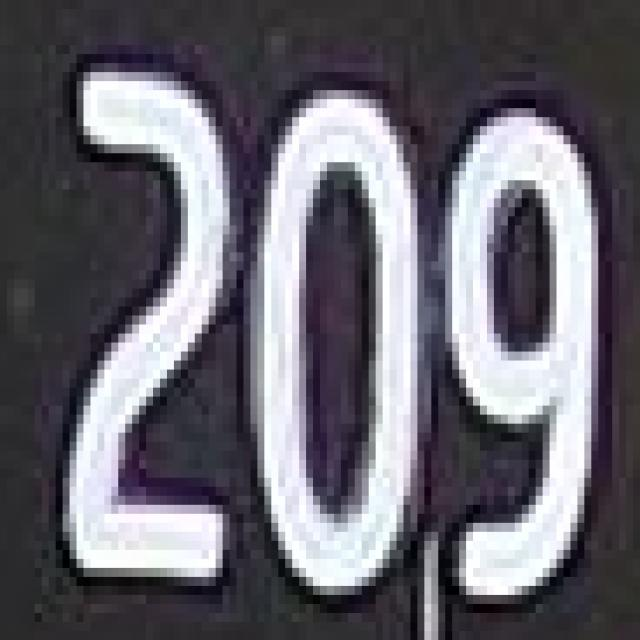character: (55, 63, 246, 596), (249, 79, 431, 601), (440, 100, 603, 612)
